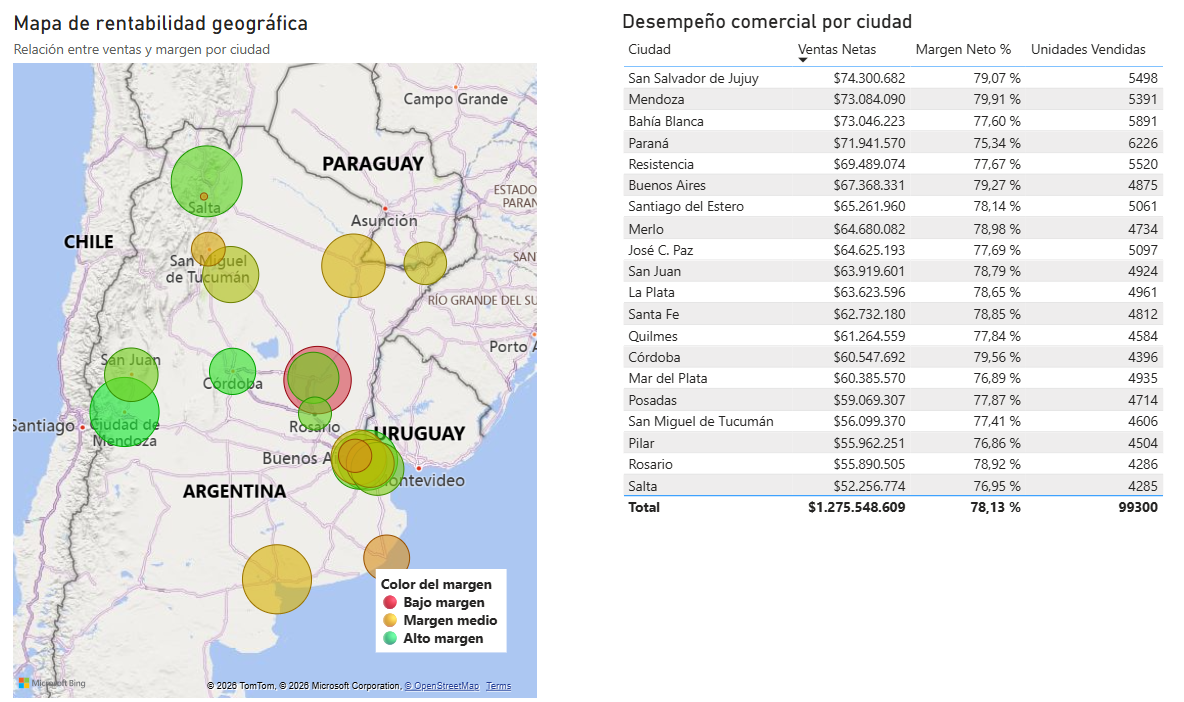

This screenshot's page, from the dashboard's own definition file:
{"tool":"powerbi","page":{"name":"Geographic Performance","canvas":[1280,720],"ordinal":3},"visuals":[{"type":"map","title":"Mapa de rentabilidad geográfica","fields":{"Y":["Territorio.Latitud"],"X":["Territorio.Longitud"],"Size":["Medidas.Ventas Netas"]},"box":[89.3,20.8,522.1,677.4],"z":0},{"type":"tableEx","title":"Desempeño comercial por ciudad","fields":{"Values":["Territorio.Ciudad","Medidas.Ventas Netas","Medidas.Margen Neto %","Medidas.Unidades Vendidas"]},"box":[684.8,20.8,540.5,677.4],"z":1000},{"type":"textbox","box":[448.8,567.4,128.4,81.9],"z":2000}]}

Visuals, with their boxes on the page's 1280x720 design canvas (x1, y1, x2, y2). These are canvas units, not pixel positions in the 1184x702 screenshot, which may show the page scaled, cropped or inside an application window:
"Mapa de rentabilidad geográfica" map: locate(89, 21, 611, 698)
"Desempeño comercial por ciudad" tableEx: locate(685, 21, 1225, 698)
textbox: locate(449, 567, 577, 649)
